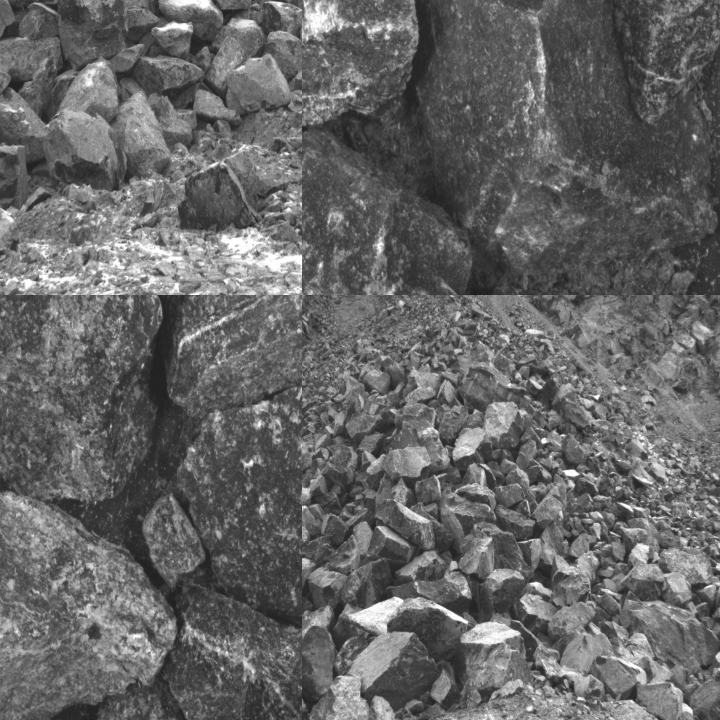stone: (416, 0, 719, 281), (0, 485, 179, 719), (0, 295, 164, 503), (176, 385, 301, 651), (302, 127, 478, 294), (162, 585, 301, 719), (158, 295, 301, 414), (302, 0, 419, 129), (605, 0, 719, 119), (42, 110, 127, 191), (350, 632, 439, 708), (178, 157, 260, 232), (454, 619, 531, 692), (142, 496, 204, 586), (113, 92, 173, 180), (390, 596, 469, 660), (54, 0, 128, 68), (95, 680, 193, 719), (0, 88, 49, 164), (228, 54, 290, 111), (388, 572, 472, 612), (62, 62, 119, 120), (460, 364, 526, 412), (0, 35, 65, 83), (308, 673, 375, 719), (135, 54, 204, 96), (339, 558, 392, 611), (441, 490, 493, 544), (377, 502, 436, 549), (156, 0, 225, 40), (479, 568, 525, 621), (19, 55, 57, 118), (365, 523, 418, 568), (591, 657, 646, 700), (204, 38, 241, 101), (302, 628, 334, 700), (658, 547, 712, 588), (215, 15, 264, 59), (551, 552, 590, 607), (0, 143, 30, 212), (485, 400, 524, 450), (458, 527, 494, 581), (550, 384, 591, 429), (620, 563, 667, 602), (266, 31, 301, 83), (636, 682, 685, 719), (549, 600, 599, 636), (381, 446, 432, 481), (121, 0, 161, 44), (395, 550, 447, 583), (452, 426, 491, 470), (308, 566, 346, 610), (531, 482, 567, 528), (515, 595, 558, 633), (321, 446, 358, 490), (152, 22, 192, 62), (494, 503, 536, 540), (18, 3, 60, 39), (540, 512, 565, 567), (429, 668, 462, 709), (345, 411, 386, 442), (261, 3, 301, 34), (690, 677, 719, 719), (437, 406, 469, 444), (328, 536, 360, 573), (402, 402, 437, 433), (661, 573, 693, 605), (563, 434, 594, 466), (575, 549, 599, 584), (320, 514, 347, 545), (363, 369, 391, 397), (414, 476, 442, 503), (493, 484, 525, 507), (302, 501, 322, 535), (516, 438, 537, 470), (368, 695, 396, 719), (598, 592, 623, 616), (302, 558, 317, 597), (0, 59, 11, 112), (570, 534, 594, 558), (314, 544, 336, 567), (213, 0, 252, 12), (302, 526, 311, 551)
